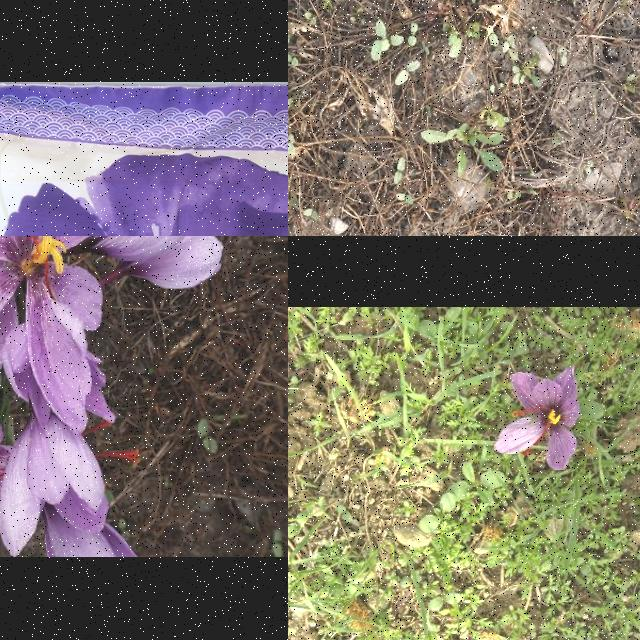flower: (0, 408, 140, 557), (0, 236, 105, 433), (494, 365, 580, 471), (81, 236, 212, 265)
overlap: (0, 236, 223, 557)
